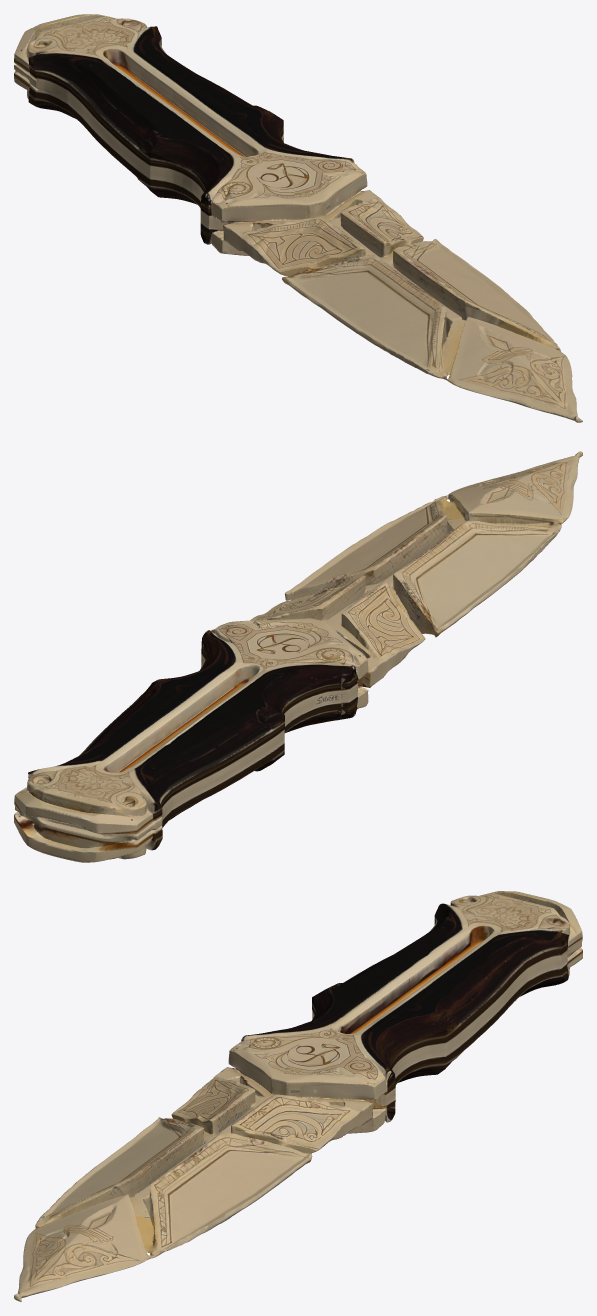
File: ornate+dagger+3d+model.fbx
The picture shows the model from 3 angles, top to bottom: view 1: azimuth 30°, elevation 25°; view 2: azimuth 150°, elevation 25°; view 3: azimuth 330°, elevation 25°; orthographic projection.
Parts seen in each view (by area): view 1: tripo_node_62e8200b; view 2: tripo_node_62e8200b; view 3: tripo_node_62e8200b.
Boxes of the visible parts, <box> form: tripo_node_62e8200b: <box>14,14,582,422</box>; tripo_node_62e8200b: <box>14,451,582,862</box>; tripo_node_62e8200b: <box>14,891,582,1301</box>.
Size of the model in its own units: 0.173 by 0.0622 by 1.
Materials: 1 (1 with a texture image).
